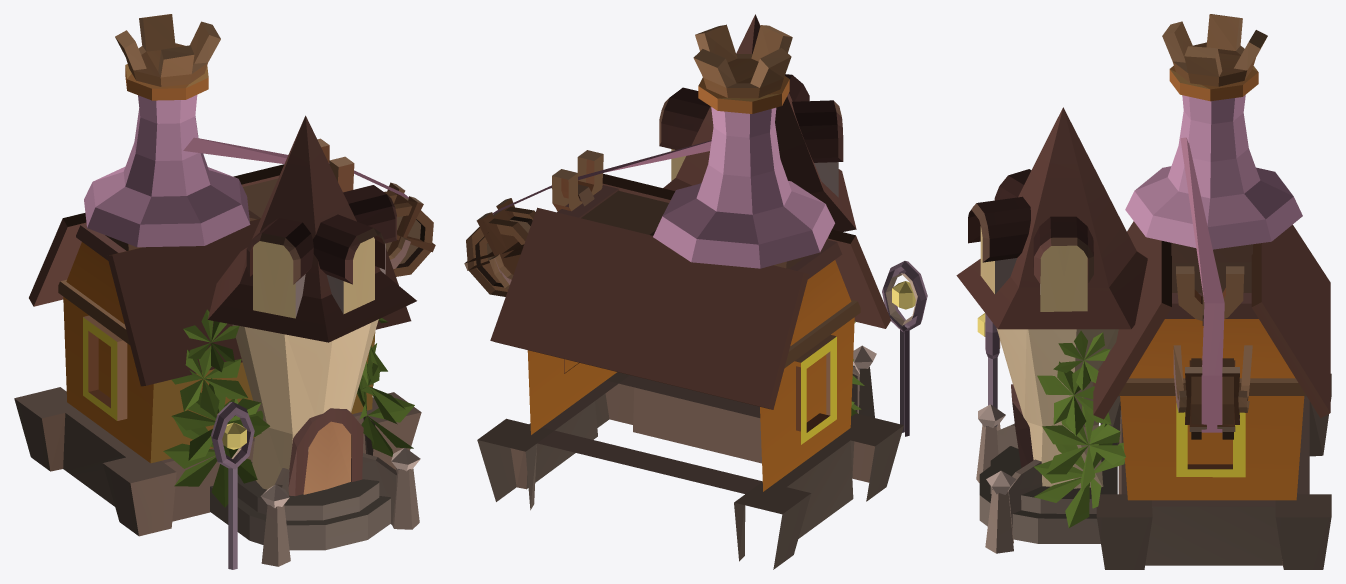
The model's file is building18.fbx.
3 renders of one model, left to right at view 1: azimuth 30°, elevation 25°; view 2: azimuth 150°, elevation 25°; view 3: azimuth 270°, elevation 25°, orthographic. The views are drawn at different scales.
Visible parts, largest first — view 1: building18; view 2: building18; view 3: building18.
Part boxes in pixels (x1,y1,x2,y2): building18: [14, 14, 435, 569]; building18: [464, 14, 927, 569]; building18: [956, 14, 1331, 569].
Bounding box in the file's own units: 2.27 × 2.77 × 2.08.
Materials: 1 (1 with a texture image).
